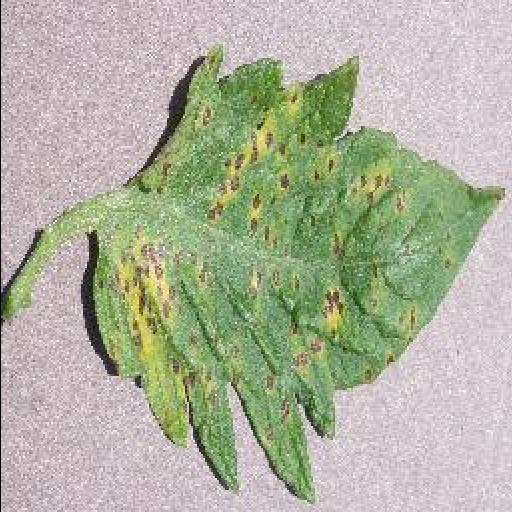disease_tomato: (92, 46, 506, 506)
